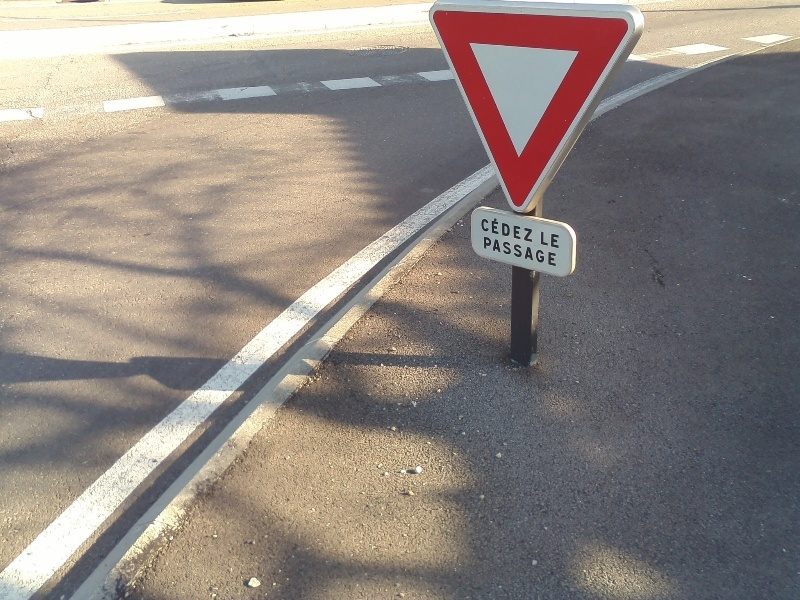text: (497, 236, 512, 267), (513, 236, 528, 267), (529, 236, 544, 267), (481, 215, 496, 243), (497, 215, 512, 243), (513, 215, 528, 243), (484, 236, 496, 267), (545, 236, 557, 267), (545, 231, 559, 249), (529, 215, 533, 243), (541, 231, 544, 249)
